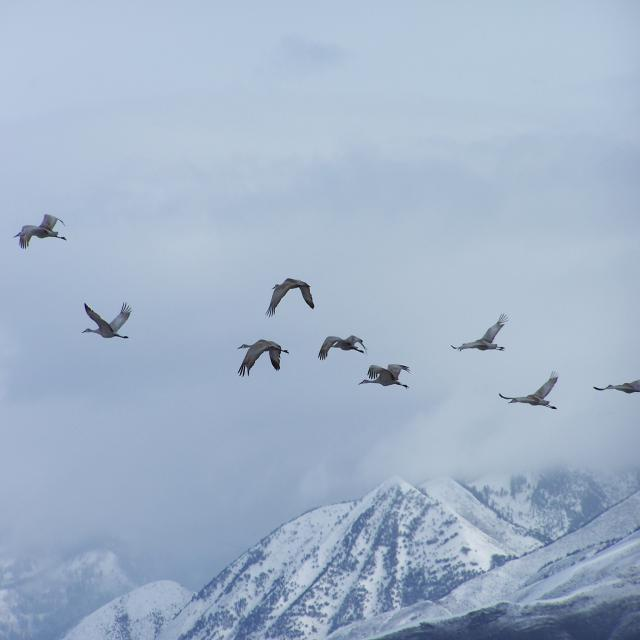bird: (497, 370, 560, 409), (453, 311, 509, 353), (14, 211, 68, 253), (268, 278, 318, 322), (237, 340, 291, 380), (81, 301, 132, 342), (360, 359, 411, 396), (318, 331, 366, 365), (594, 368, 640, 401)
